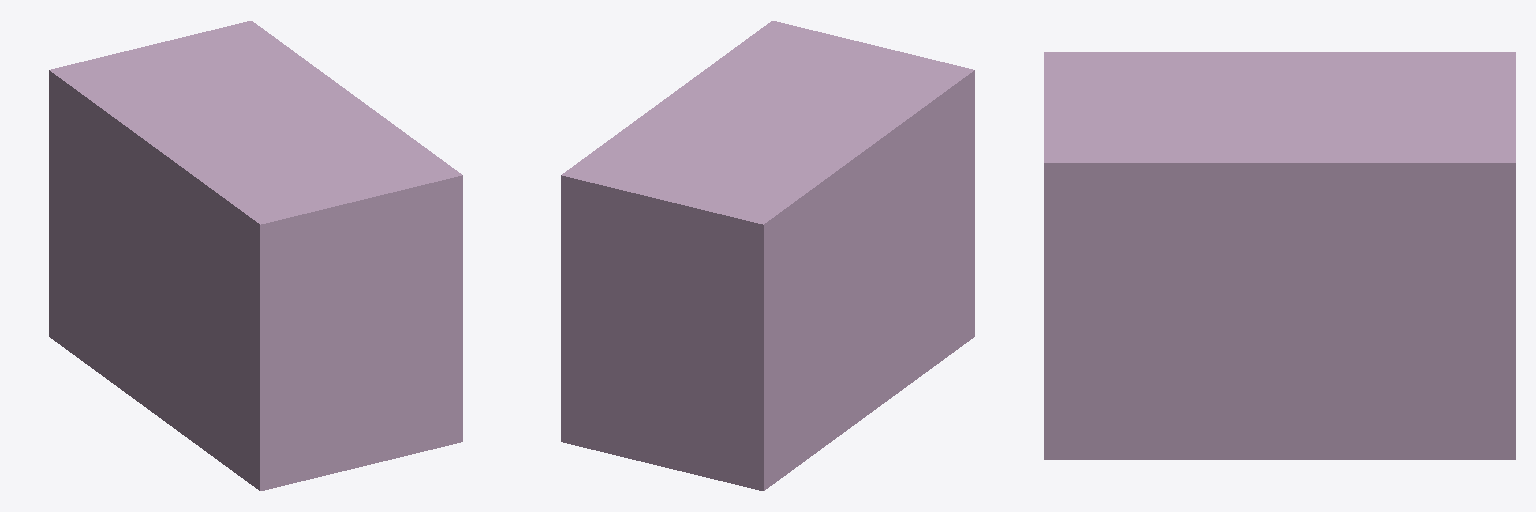
robot.urdf — box.urdf:
<?xml version="1.0" ?>
<robot name="box.urdf">
  <link name="baseLink">
    <contact>
      <lateral_friction value="1.0"/>
      <rolling_friction value="0.0001"/>
      <inertia_scaling value="3.0"/>
    </contact>
    <inertial>
      <origin rpy="0 0 0" xyz="0 0 0"/>
       <mass value="0.1"/>
       <inertia ixx="1" ixy="0" ixz="0" iyy="1" iyz="0" izz="1"/>
    </inertial>
    <visual>
      <origin rpy="0 0 0" xyz="0 0 0"/>
      <geometry>
        <!-- <box size="0.20199999999999999 0.365 0.254"/> -->
        <mesh filename="box/box.obj" scale="0.20199999999999999 0.365 0.254"/>
      </geometry>
      <material name="white">
        <color rgba="0.8 0.7 0.8 1"/>
      </material>
    </visual>
    <collision>
      <origin rpy="0 0 0" xyz="0 0 0"/>
      <geometry>
        <mesh filename="box/box.obj" scale="0.20199999999999999 0.365 0.254"/>
	 	    <!-- <box size="0.20199999999999999 0.365 0.254"/> -->
      </geometry>
    </collision>
  </link>
</robot>

--- Facts derived from the render (not from the file) ---
The picture shows the robot from 3 angles, left to right: view 1: azimuth 30°, elevation 25°; view 2: azimuth 150°, elevation 25°; view 3: azimuth 270°, elevation 25°; orthographic projection.
Robot: box.urdf — 1 links, 0 joints (none); root link baseLink; default pose: all joints at 0.
Visible links, largest first — view 1: baseLink; view 2: baseLink; view 3: baseLink.
Boxes of the visible links, <box> form: baseLink: <box>49,21,462,490</box>; baseLink: <box>561,21,974,490</box>; baseLink: <box>1044,52,1515,459</box>.
Bounding box of the posed robot: 0.202 × 0.365 × 0.254 m (x, y, z).
Meshes: 1 distinct files referenced, 1 mesh visuals loaded (1 OBJ).
